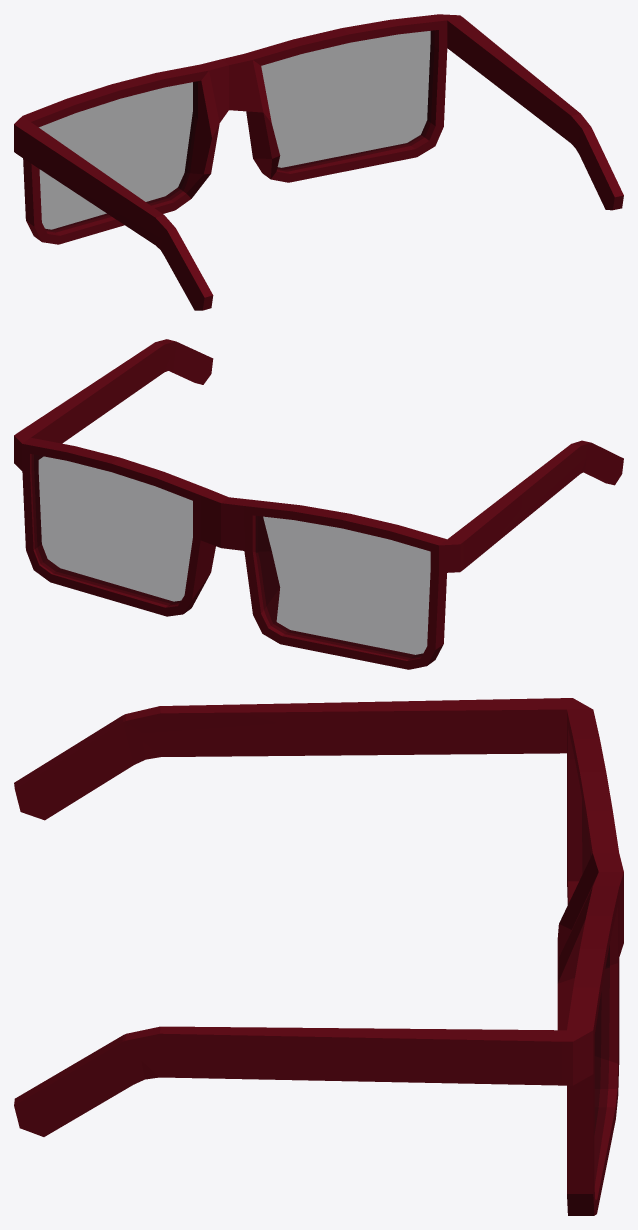
Rendered from gafasrojas.fbx.
The picture shows the model from 3 angles, top to bottom: view 1: azimuth 30°, elevation 25°; view 2: azimuth 150°, elevation 25°; view 3: azimuth 270°, elevation 25°; orthographic projection. The views are drawn at different scales.
Parts seen in each view (by area): view 1: Sunglasses_Cube.001; view 2: Sunglasses_Cube.001; view 3: Sunglasses_Cube.001.
Boxes of the visible parts, x1,y1,x2,y2 form: Sunglasses_Cube.001: (14, 14, 623, 310); Sunglasses_Cube.001: (14, 339, 623, 669); Sunglasses_Cube.001: (14, 698, 623, 1215).
Bounding box in the file's own units: 80.79 × 23.61 × 60.61.
